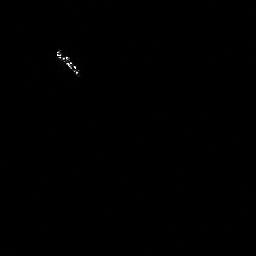ship: (52, 46, 82, 80)
